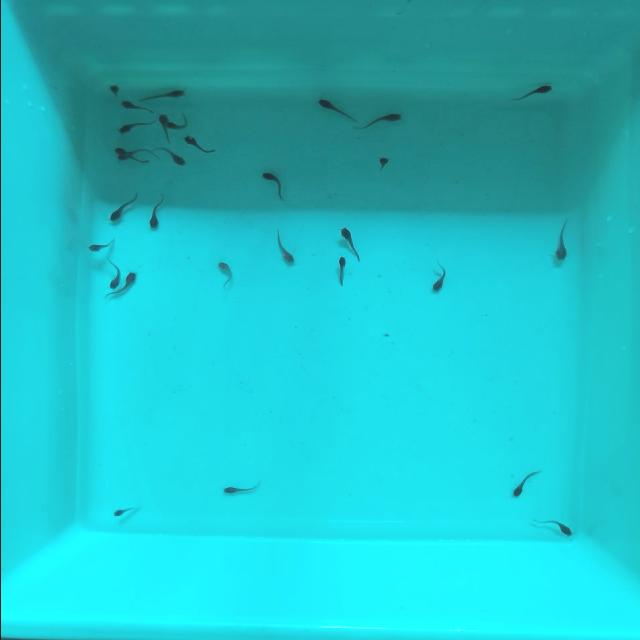lele: (314, 94, 360, 124), (336, 224, 367, 264), (105, 271, 141, 304), (506, 82, 559, 104), (260, 166, 291, 203), (353, 110, 405, 132), (551, 217, 575, 262), (270, 225, 296, 266), (107, 191, 139, 222), (535, 515, 576, 538), (511, 467, 541, 498), (152, 144, 189, 168), (180, 131, 214, 155), (428, 264, 454, 294), (115, 117, 152, 135), (112, 146, 147, 165), (117, 98, 156, 115), (215, 258, 235, 291), (138, 89, 187, 102), (114, 146, 152, 162), (147, 196, 163, 228), (221, 481, 257, 495), (333, 255, 347, 288), (157, 114, 172, 144), (86, 239, 115, 254), (112, 502, 139, 518), (107, 258, 120, 290), (376, 155, 391, 174), (167, 121, 195, 129), (109, 85, 120, 99)
